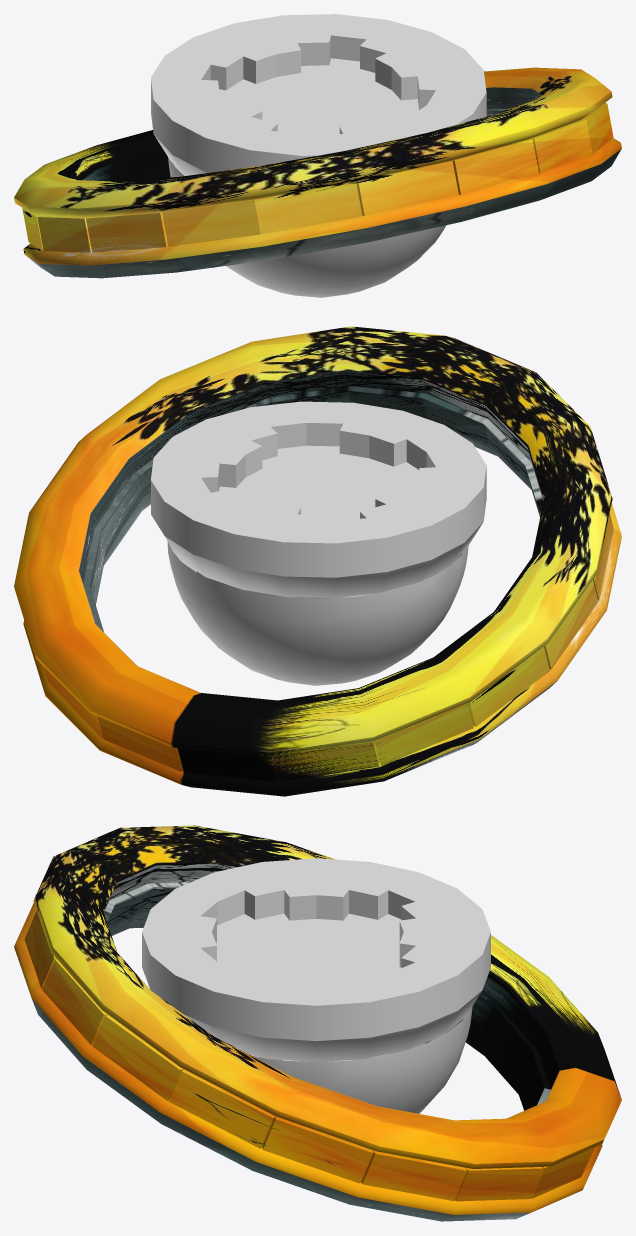
The model's file is Ufo_Enemy_1.FBX.
3 renders of one model, top to bottom at view 1: azimuth 30°, elevation 25°; view 2: azimuth 150°, elevation 25°; view 3: azimuth 270°, elevation 25°, orthographic. The views are drawn at different scales.
Visible parts, largest first — view 1: Tube002, Sphere002; view 2: Tube002, Sphere002; view 3: Tube002, Sphere002.
Part boxes in pixels (box(x1,y1,x2,y2)): Tube002: box(14, 67, 621, 278); Sphere002: box(151, 14, 486, 297); Tube002: box(14, 326, 621, 796); Sphere002: box(151, 401, 486, 685); Tube002: box(14, 825, 621, 1221); Sphere002: box(142, 858, 490, 1113).
Size of the model in its own units: 237 by 116 by 233.
